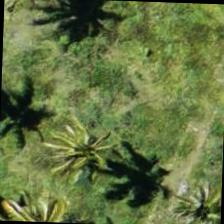Kelapa_Sawit: (43, 113, 136, 206), (163, 169, 223, 223)
